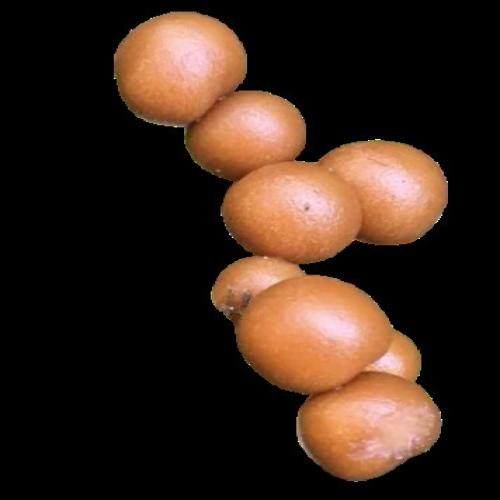Funeral Bell: (218, 240, 403, 422), (282, 345, 452, 500), (92, 0, 262, 148), (315, 113, 462, 263), (219, 156, 365, 268), (174, 75, 314, 190), (200, 233, 305, 327), (365, 327, 432, 395)
